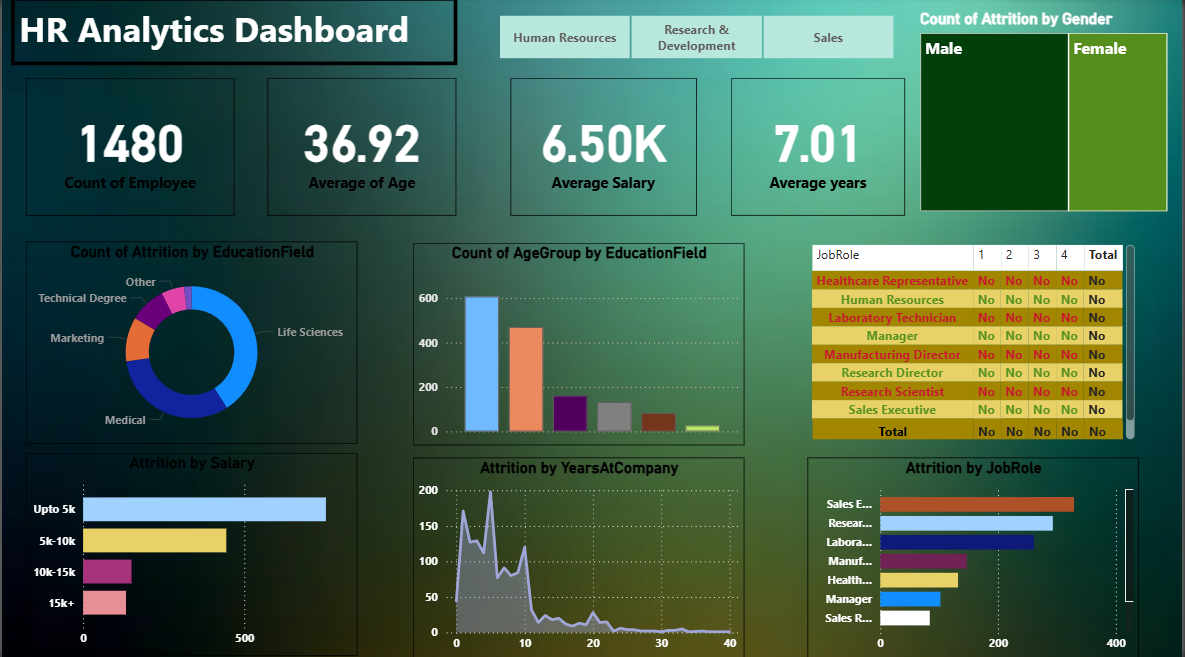

The dashboard page shown, as its layout file describes it:
{"tool":"powerbi","page":{"name":"Page 1","canvas":[1280,720],"ordinal":0},"visuals":[{"type":"textbox","box":[9.4,0,483.8,73.7],"z":0},{"type":"treemap","fields":{"Group":["HR_Analytics.Gender"],"Values":["CountNonNull(HR_Analytics.Attrition)"]},"box":[990.6,13,278.1,224.5],"z":1000},{"type":"slicer","fields":{"Values":["HR_Analytics.Department"]},"box":[514,13,476.6,60.2],"z":2000},{"type":"card","fields":{"Values":["CountNonNull(HR_Analytics.EmployeeCount)"]},"box":[26,87.8,226.1,149.6],"z":3000},{"type":"card","fields":{"Values":["Avg(HR_Analytics.Age)"]},"box":[287.9,87.8,204.9,149.6],"z":4000},{"type":"card","fields":{"Values":["Avg(HR_Analytics.MonthlyIncome)"]},"box":[551.4,87.8,201.7,149.6],"z":5000},{"type":"card","fields":{"Values":["Avg(HR_Analytics.YearsAtCompany)"]},"box":[790.5,87.8,188.7,149.6],"z":6000},{"type":"donutChart","fields":{"Y":["CountNonNull(HR_Analytics.Attrition)"],"Category":["HR_Analytics.EducationField","HR_Analytics.YearsAtCompany"]},"box":[26,265.1,359.5,219.6],"z":7000},{"type":"columnChart","fields":{"Y":["CountNonNull(HR_Analytics.AgeGroup)"],"Category":["HR_Analytics.EducationField"]},"box":[445.7,266.8,359.5,219.6],"z":8000},{"type":"pivotTable","fields":{"Rows":["HR_Analytics.JobRole"],"Columns":["HR_Analytics.JobSatisfaction"],"Values":["Min(HR_Analytics.Attrition)"]},"box":[873.5,263.5,359.5,221.2],"z":8001},{"type":"clusteredBarChart","fields":{"Category":["HR_Analytics.SalarySlab"],"Y":["CountNonNull(HR_Analytics.Attrition)"]},"box":[26,495,359,220],"z":8002},{"type":"areaChart","fields":{"Category":["HR_Analytics.YearsAtCompany"],"Y":["CountNonNull(HR_Analytics.Attrition)"]},"box":[445.7,499.3,359.5,221.2],"z":8003},{"type":"barChart","fields":{"Category":["HR_Analytics.JobRole"],"Y":["CountNonNull(HR_Analytics.Attrition)"]},"box":[873.5,499.3,359.5,221.2],"z":8004}]}

Visuals, with their boxes in screenshot pixels (x1, y1, x2, y2), scaled from the page's 1280x720 canvas onto the 1185x657 screenshot:
textbox: {"left": 9, "top": 0, "right": 457, "bottom": 67}
treemap - HR_Analytics.Gender x CountNonNull(HR_Analytics.Attrition): {"left": 917, "top": 12, "right": 1175, "bottom": 217}
slicer - HR_Analytics.Department: {"left": 476, "top": 12, "right": 917, "bottom": 67}
card - CountNonNull(HR_Analytics.EmployeeCount): {"left": 24, "top": 80, "right": 233, "bottom": 217}
card - Avg(HR_Analytics.Age): {"left": 267, "top": 80, "right": 456, "bottom": 217}
card - Avg(HR_Analytics.MonthlyIncome): {"left": 510, "top": 80, "right": 697, "bottom": 217}
card - Avg(HR_Analytics.YearsAtCompany): {"left": 732, "top": 80, "right": 907, "bottom": 217}
donutChart - CountNonNull(HR_Analytics.Attrition) x HR_Analytics.EducationField: {"left": 24, "top": 242, "right": 357, "bottom": 442}
columnChart - CountNonNull(HR_Analytics.AgeGroup) x HR_Analytics.EducationField: {"left": 413, "top": 243, "right": 745, "bottom": 444}
pivotTable - HR_Analytics.JobRole x HR_Analytics.JobSatisfaction: {"left": 809, "top": 240, "right": 1141, "bottom": 442}
clusteredBarChart - HR_Analytics.SalarySlab x CountNonNull(HR_Analytics.Attrition): {"left": 24, "top": 452, "right": 356, "bottom": 652}
areaChart - HR_Analytics.YearsAtCompany x CountNonNull(HR_Analytics.Attrition): {"left": 413, "top": 456, "right": 745, "bottom": 656}
barChart - HR_Analytics.JobRole x CountNonNull(HR_Analytics.Attrition): {"left": 809, "top": 456, "right": 1141, "bottom": 656}
